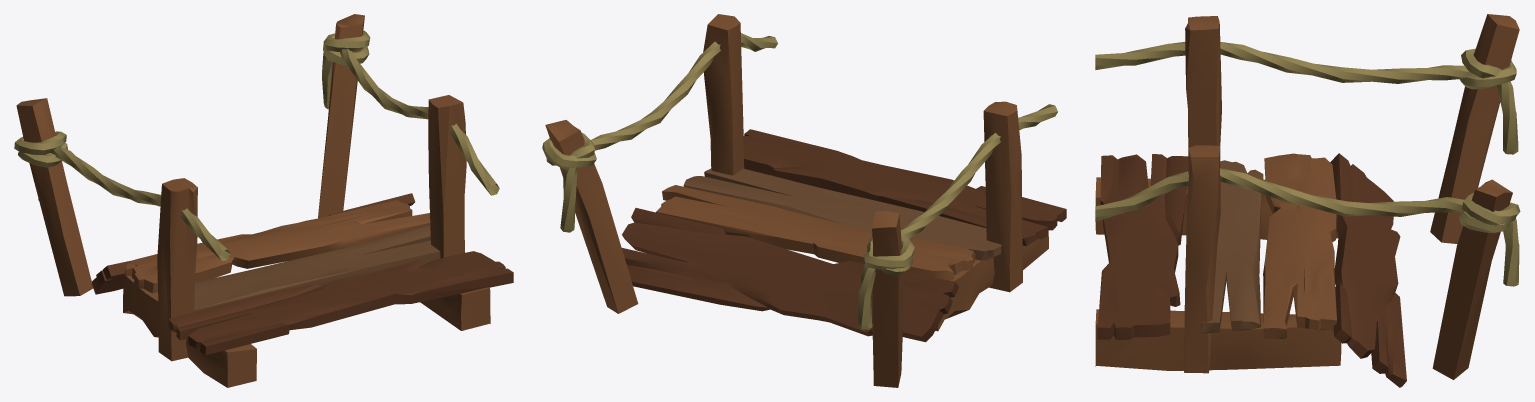
The model's file is Rough Wooden Bridge_centred end.fbx.
3 views of the same model, side by side, from view 1: azimuth 30°, elevation 25°; view 2: azimuth 150°, elevation 25°; view 3: azimuth 270°, elevation 25° (orthographic). The views are drawn at different scales.
Visible parts, largest first — view 1: Rough Wooden Bridge_baked; view 2: Rough Wooden Bridge_baked; view 3: Rough Wooden Bridge_baked.
Part boxes in pixels (bbox=[...]): Rough Wooden Bridge_baked: bbox=[14, 14, 513, 387]; Rough Wooden Bridge_baked: bbox=[542, 14, 1066, 387]; Rough Wooden Bridge_baked: bbox=[1095, 14, 1520, 387].
Bounding box in the file's own units: 301 × 170 × 273.
